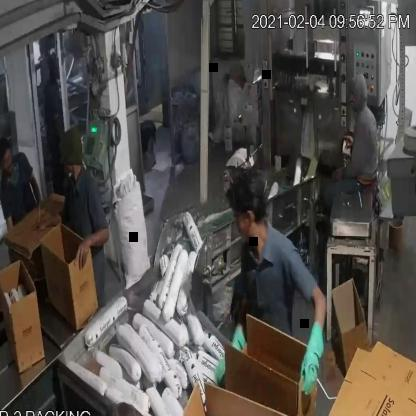glove: (295, 281, 331, 398)
no_glove: (68, 229, 118, 273), (34, 202, 71, 241), (25, 158, 42, 208)
